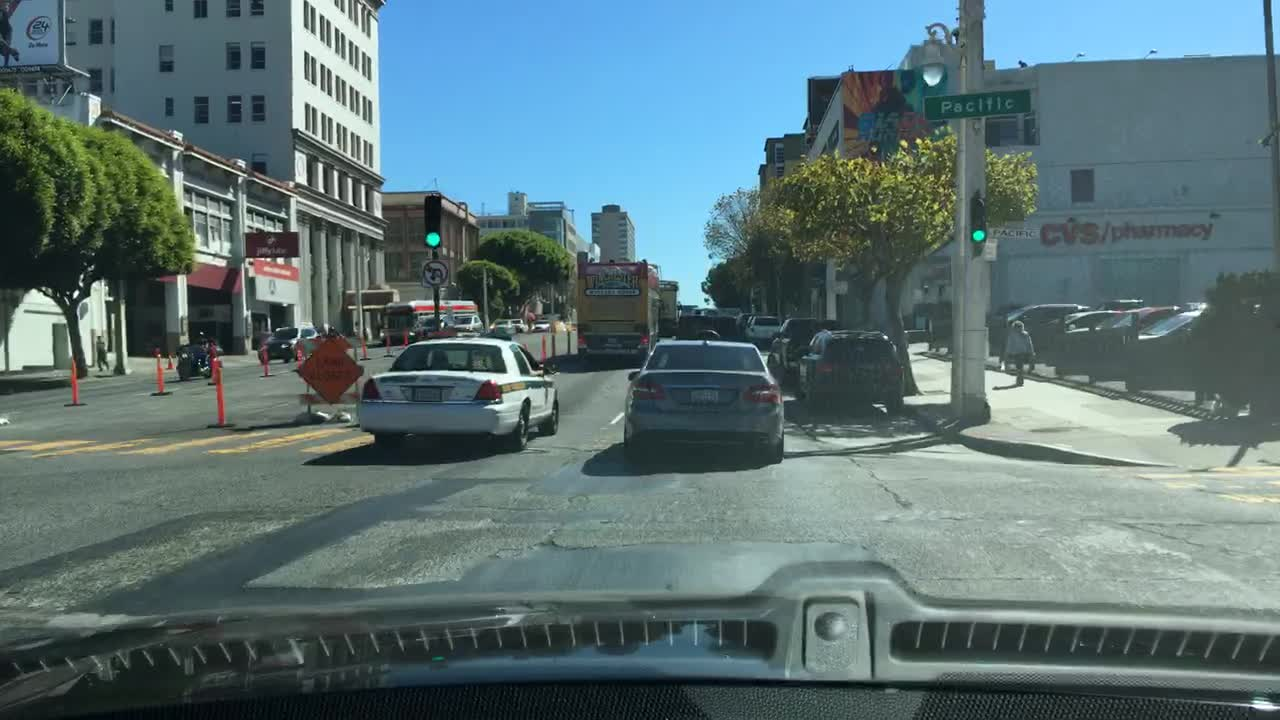bus: (375, 297, 481, 348)
car: (353, 333, 561, 455), (618, 334, 788, 466), (793, 324, 907, 419), (1101, 299, 1215, 378), (1070, 300, 1182, 375), (1030, 293, 1142, 353), (762, 315, 849, 385), (983, 299, 1091, 352), (254, 323, 330, 363), (672, 309, 741, 342), (742, 314, 786, 345), (406, 317, 452, 345), (733, 309, 769, 334), (314, 323, 349, 344), (486, 313, 515, 337), (449, 313, 487, 330), (529, 312, 557, 335), (506, 315, 531, 332), (714, 305, 743, 319), (688, 304, 718, 317), (557, 317, 577, 335)
motor: (175, 328, 222, 379)
person: (995, 318, 1035, 387), (91, 332, 112, 372)
traffic light: (422, 192, 442, 248), (968, 196, 985, 247)
traffic sign: (296, 337, 368, 404), (919, 90, 1033, 123), (252, 258, 303, 307), (244, 229, 301, 261), (419, 256, 451, 288), (984, 238, 1000, 262)
truck: (570, 248, 657, 364), (657, 278, 681, 334)
